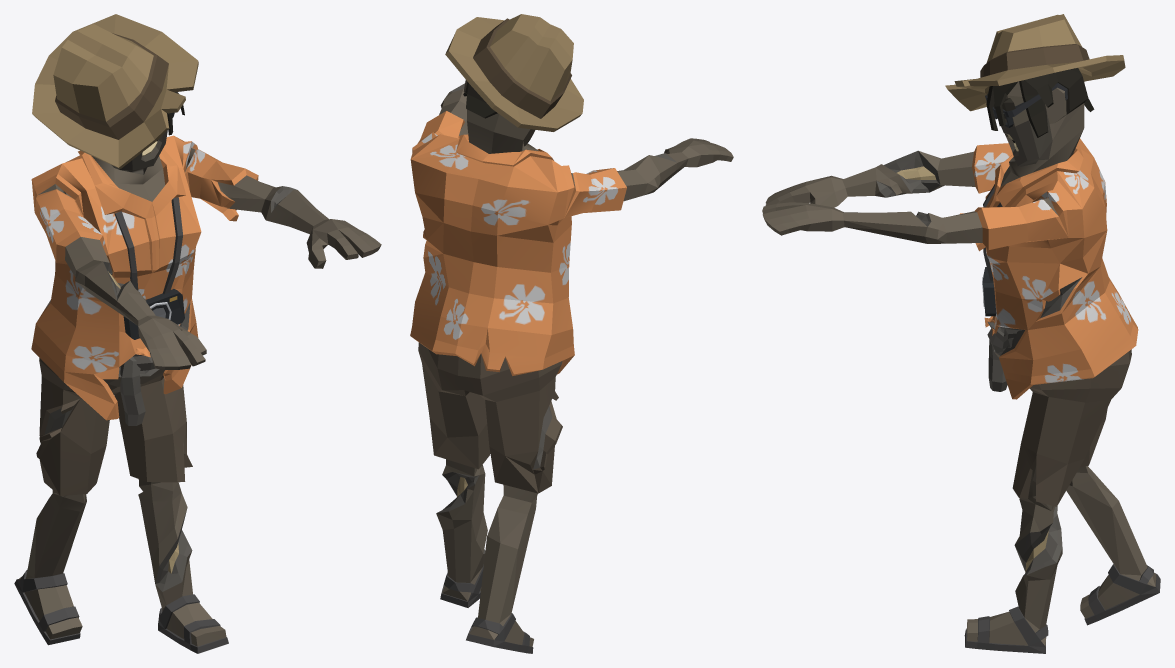
The model's file is setup.3.glb.
The picture shows the model from 3 angles, left to right: view 1: azimuth 30°, elevation 25°; view 2: azimuth 150°, elevation 25°; view 3: azimuth 270°, elevation 25°; orthographic projection. The views are drawn at different scales.
Visible parts, largest first — view 1: Zombie_Tourist_Male_01_1.001; view 2: Zombie_Tourist_Male_01_1.001; view 3: Zombie_Tourist_Male_01_1.001.
Boxes of the visible parts, x1,y1,x2,y2 form: Zombie_Tourist_Male_01_1.001: (14, 14, 381, 653); Zombie_Tourist_Male_01_1.001: (410, 14, 733, 653); Zombie_Tourist_Male_01_1.001: (762, 14, 1160, 653).
Bounding box in the file's own units: 0.7167 × 1.88 × 1.12.
1 material, 1 textured.
